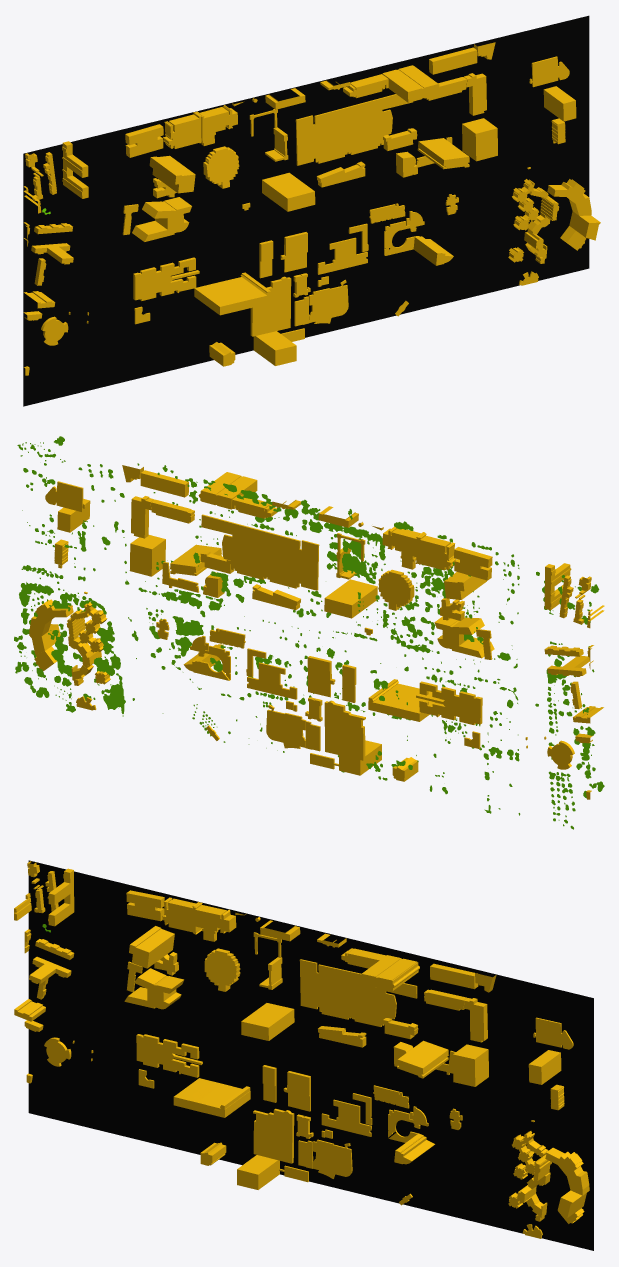
Rendered from existing_buildings_02.glb.
The picture shows the model from 3 angles, top to bottom: view 1: azimuth 30°, elevation 25°; view 2: azimuth 150°, elevation 25°; view 3: azimuth 330°, elevation 25°; orthographic projection.
Visible parts, largest first — view 1: Layer 04, existing_building - Copy, existing_building; view 2: existing_building - Copy, treesurface, existing_building; view 3: Layer 04, existing_building - Copy, existing_building.
Part boxes in pixels (x1,y1,x2,y2): Layer 04: (23, 15, 589, 406); existing_building - Copy: (23, 42, 591, 345); existing_building: (24, 65, 600, 375); existing_building - Copy: (29, 465, 593, 769); treesurface: (14, 436, 604, 829); existing_building: (30, 472, 604, 799); Layer 04: (28, 860, 593, 1250); existing_building - Copy: (24, 861, 589, 1238); existing_building: (14, 878, 586, 1217).
Size of the model in its own units: 1035 by 458 by 78.19.
